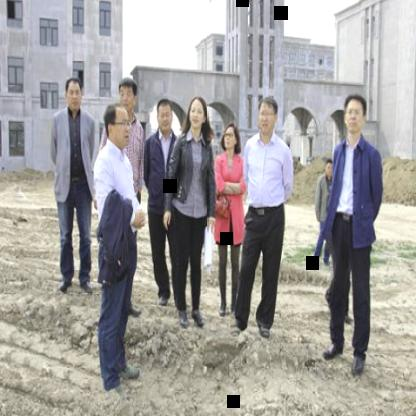head: (341, 90, 369, 139), (104, 100, 128, 150), (256, 92, 280, 139), (116, 72, 140, 119), (64, 72, 86, 115), (186, 94, 208, 136), (152, 97, 176, 135), (219, 119, 241, 158), (322, 156, 336, 184)
